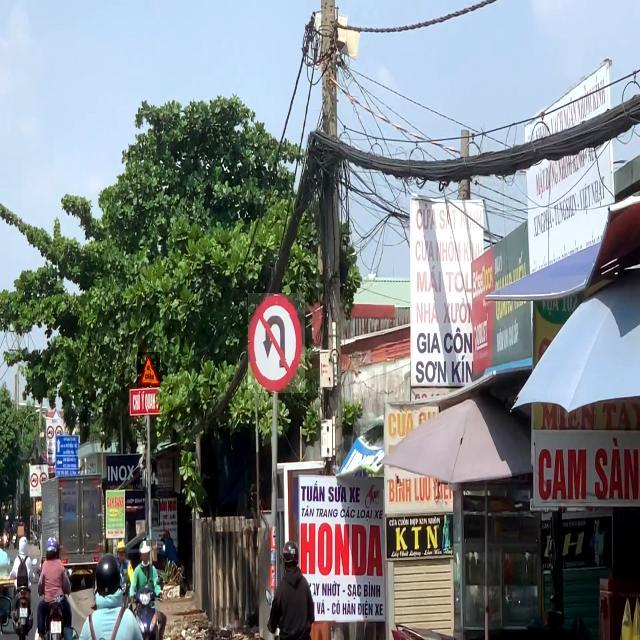P-124a: (248, 293, 305, 393)
W-245a: (137, 352, 160, 387)
